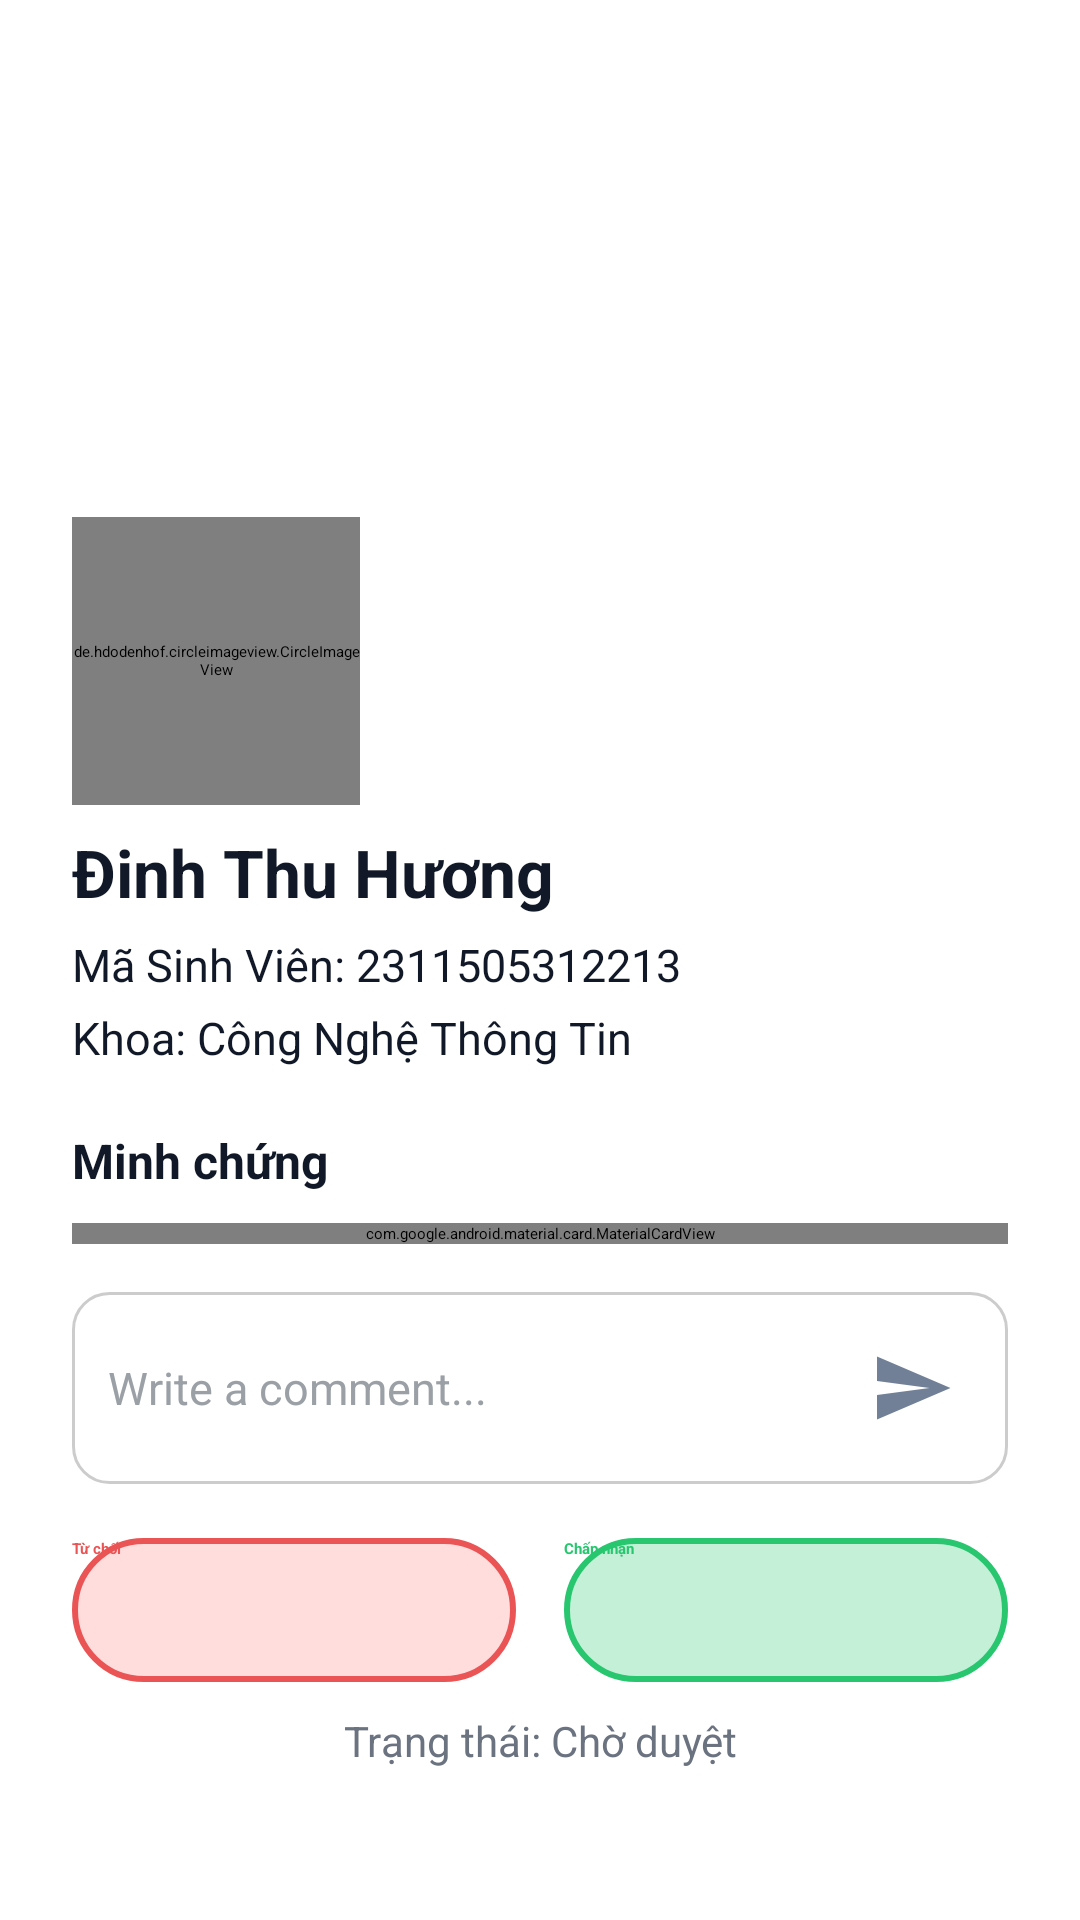

Screen size 1080×1920. Icon name, then its center in pixels as (x,y):
Gửi bình luận: (913,1388)
